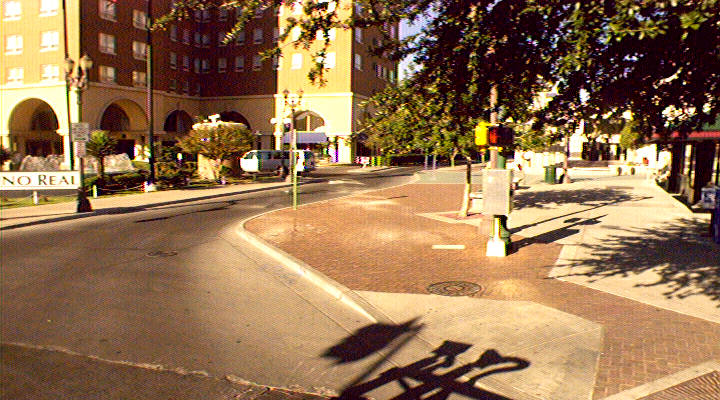Ramp: (307, 281, 619, 400)
